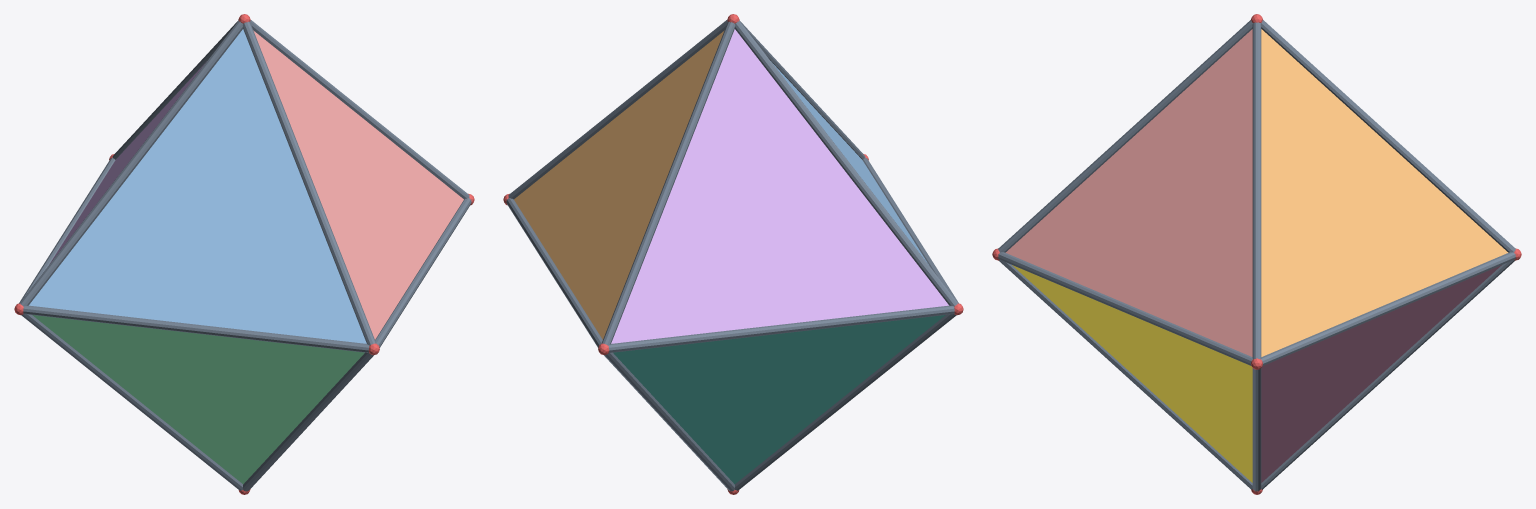
File: batdien.glb
3 renders of one model, left to right at view 1: azimuth 30°, elevation 25°; view 2: azimuth 150°, elevation 25°; view 3: azimuth 270°, elevation 25°, orthographic.
Visible parts, largest first — view 1: world; view 2: world; view 3: world.
Boxes of the visible parts, x1,y1,x2,y2 form: world: (14, 14, 474, 494); world: (503, 14, 963, 494); world: (992, 14, 1521, 494).
Size of the model in its own units: 0.3297 by 0.3297 by 0.3297.
